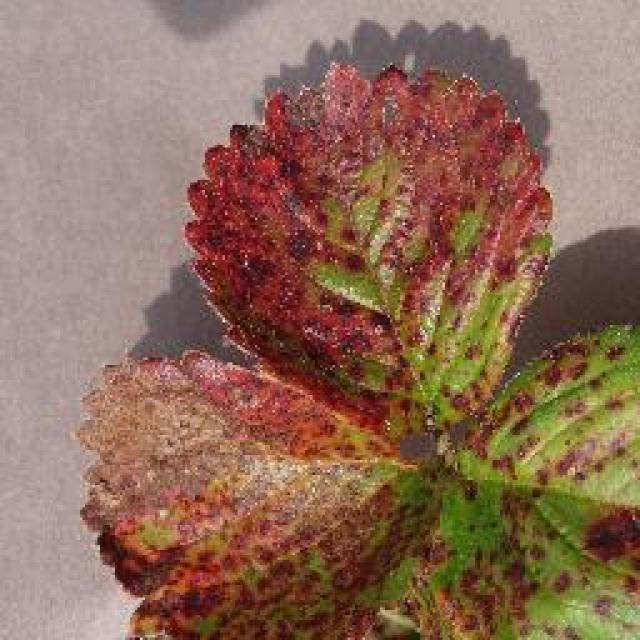Strawberry___Leaf_scorch: (47, 2, 640, 639)
